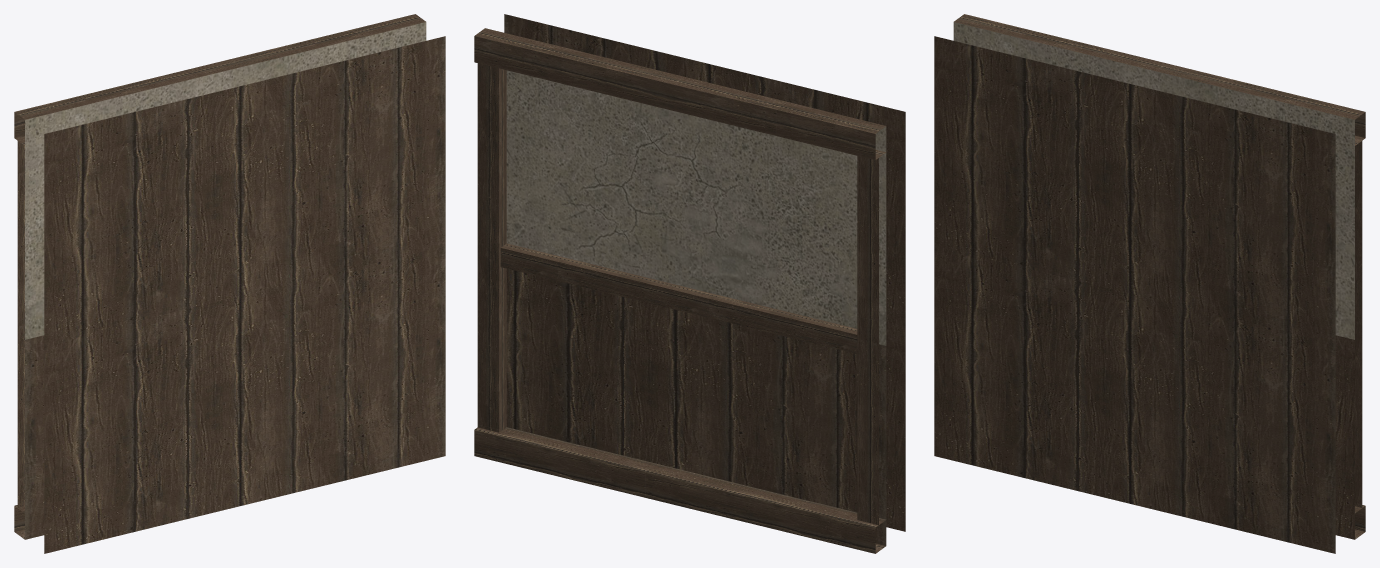
Rendered from ARC1010317.fbx.
3 renders of one model, left to right at view 1: azimuth 30°, elevation 25°; view 2: azimuth 150°, elevation 25°; view 3: azimuth 330°, elevation 25°, orthographic.
Parts seen in each view (by area): view 1: smARC1010317; view 2: smARC1010317; view 3: smARC1010317.
Boxes of the visible parts, x1,y1,x2,y2 form: smARC1010317: (14,14,445,553); smARC1010317: (474,14,905,553); smARC1010317: (934,14,1365,553).
Bounding box in the file's own units: 268 × 268 × 34.9.
1 material, 1 textured.
